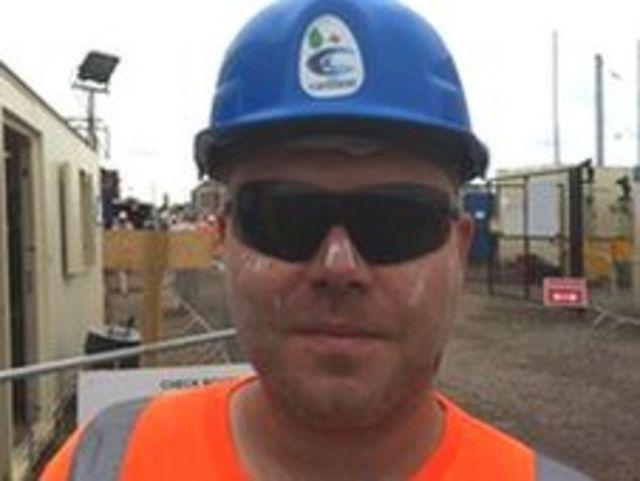helmet: (192, 0, 491, 171)
